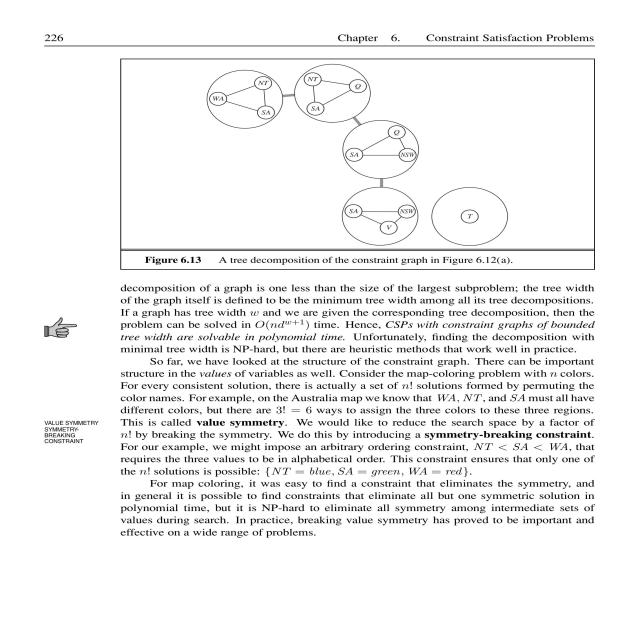diagram: (90, 50, 636, 277)
